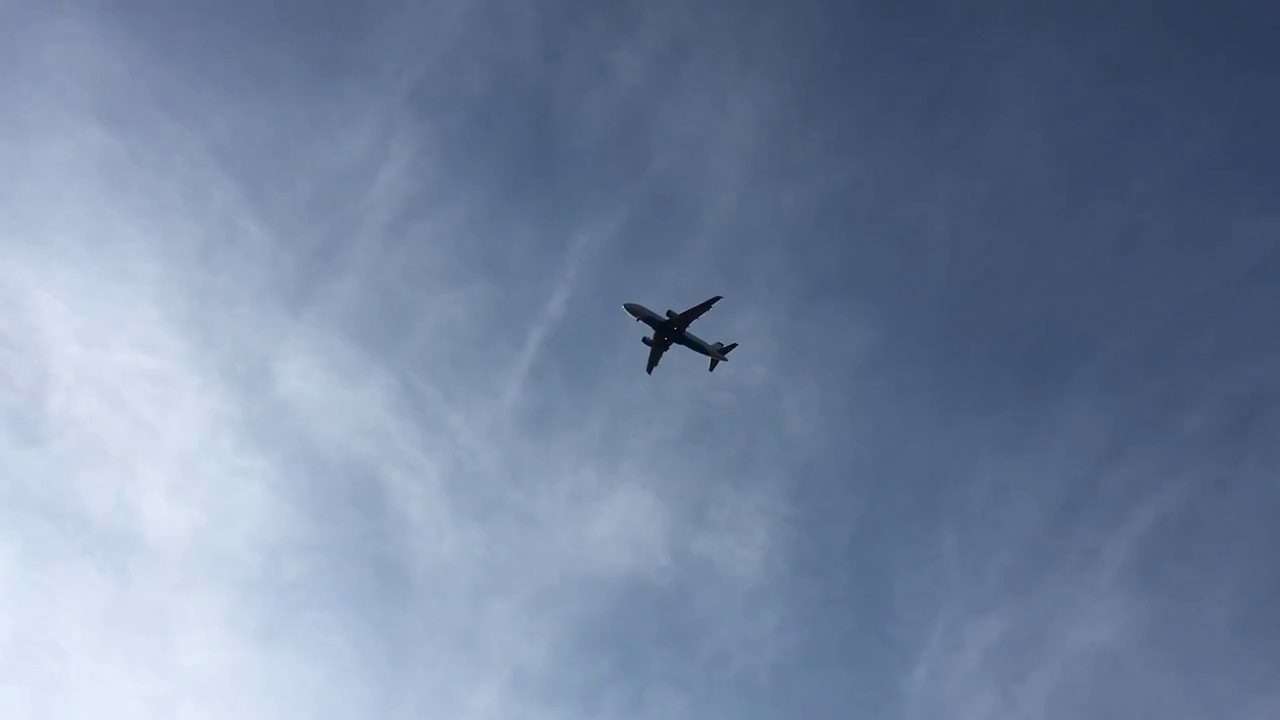plane: (620, 294, 737, 376)
